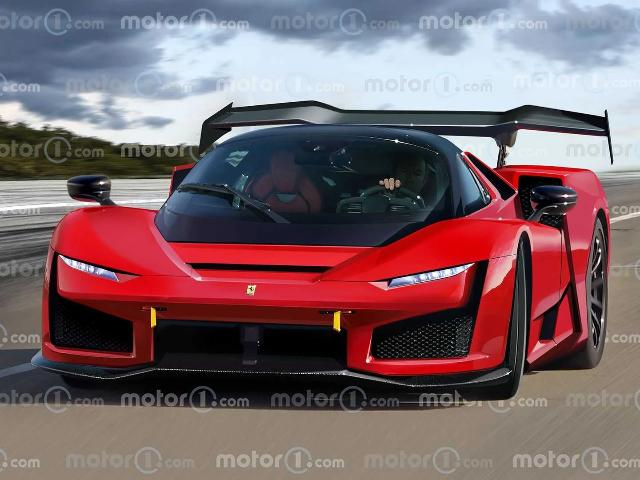ferrari: (31, 99, 615, 401)
